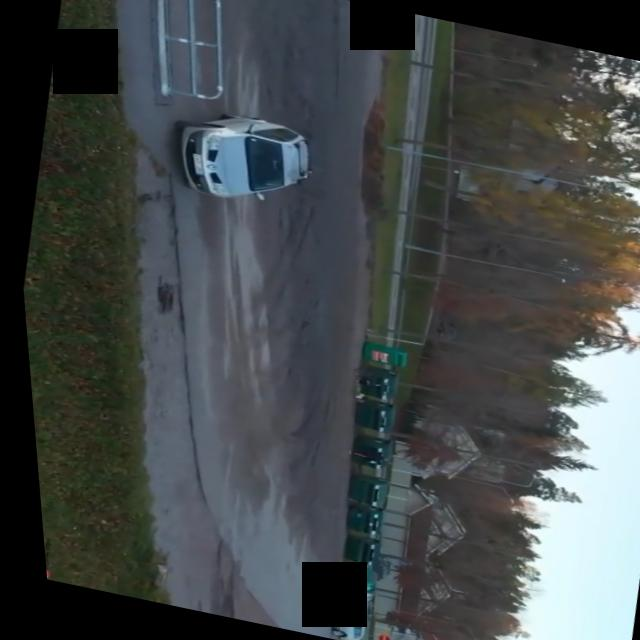Vehicle: (153, 98, 328, 218), (309, 585, 369, 640)
